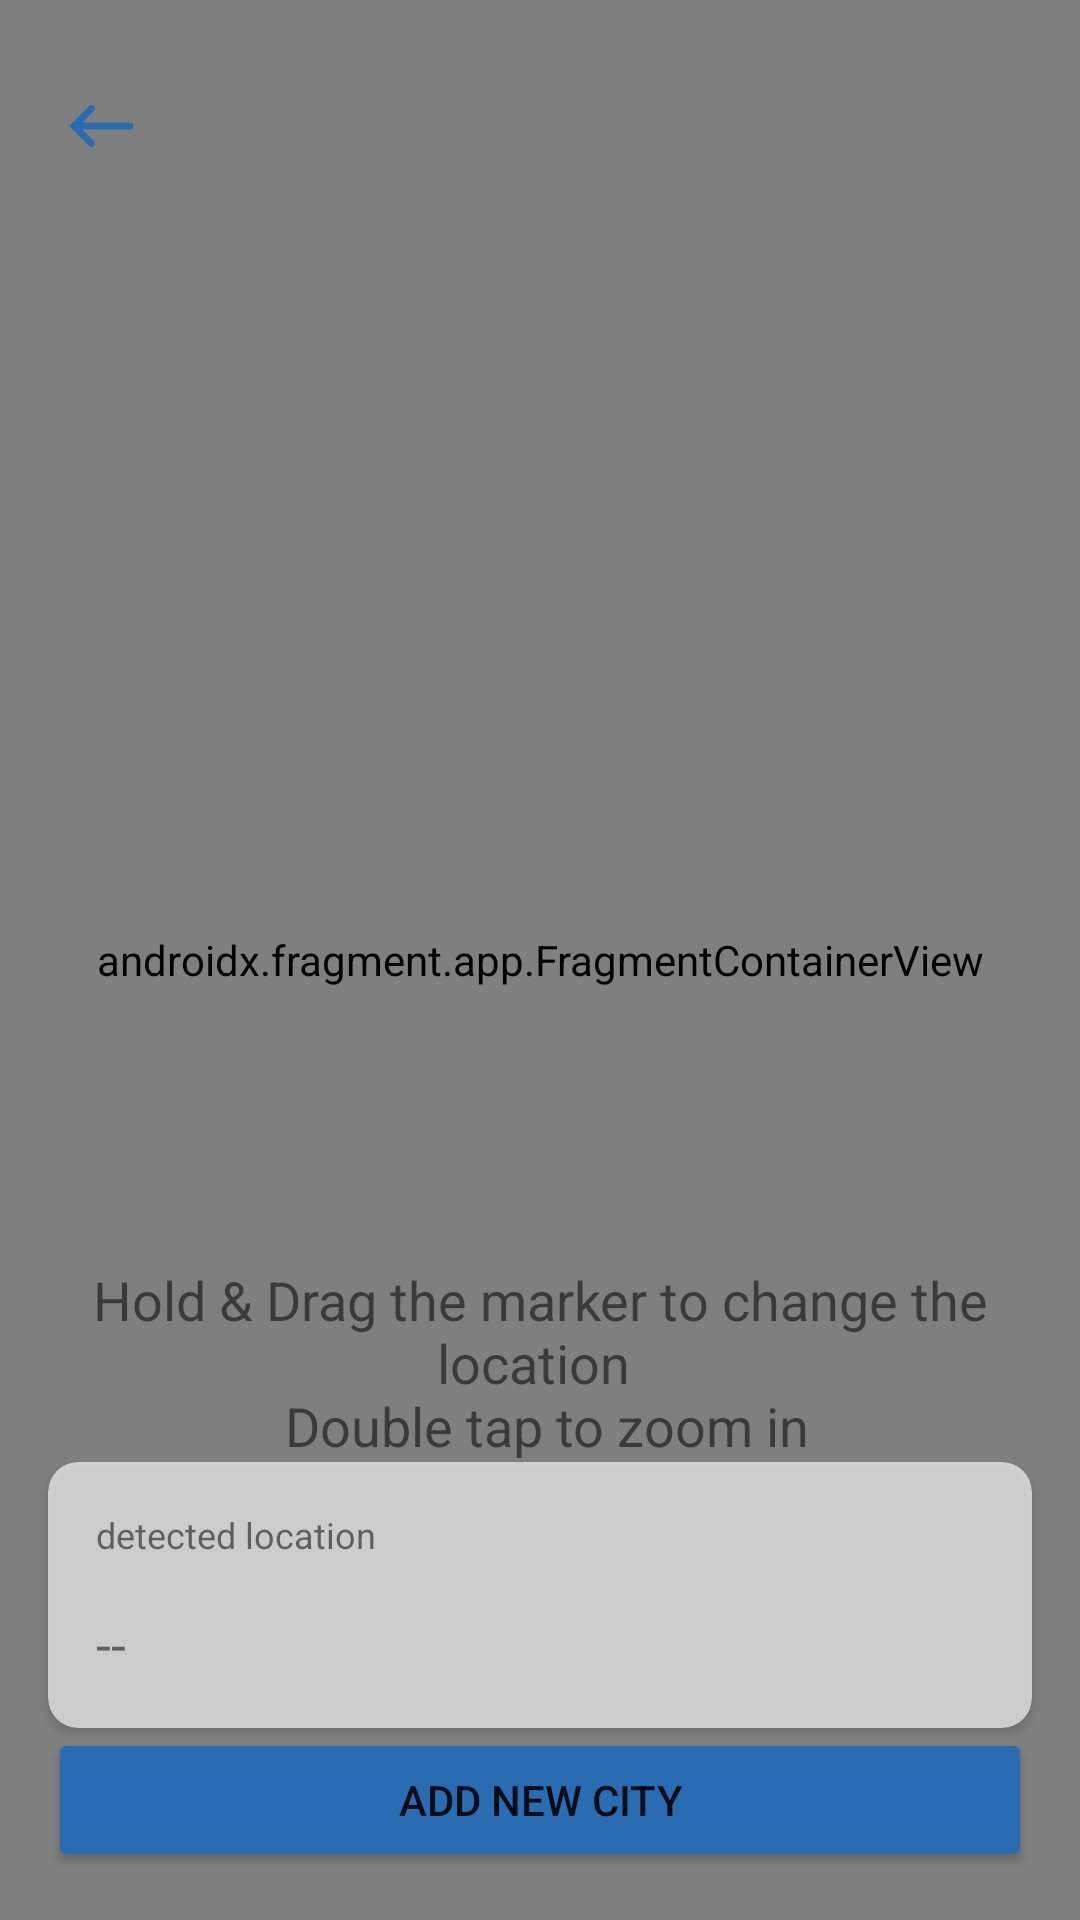

Point at icon controls on the screen. Image size 1080x1920, points as (x,y).
back: (102,126)
